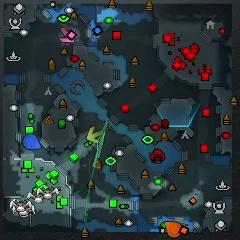p1: (23, 133, 43, 151)
p5: (163, 221, 185, 238)
x1: (60, 28, 76, 45)
x2: (86, 126, 104, 145)
